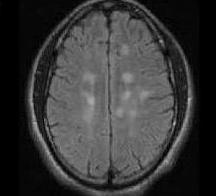Normal_Brain: (1, 1, 216, 196)
